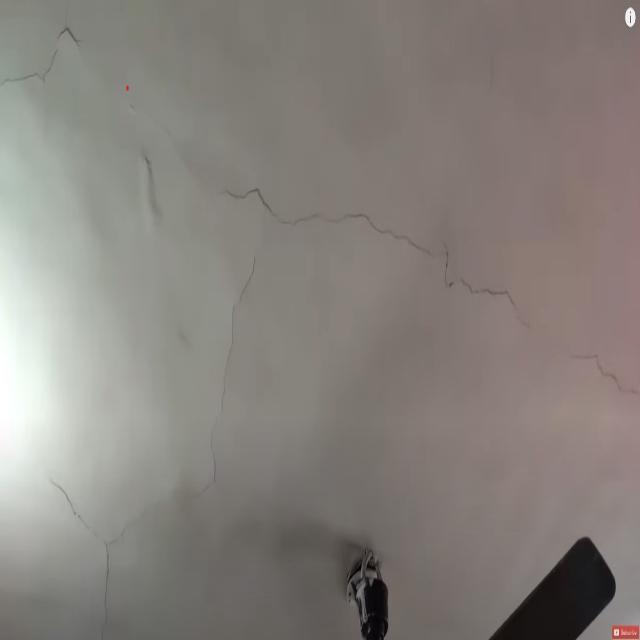Wall_Cracks: (1, 4, 640, 636)
